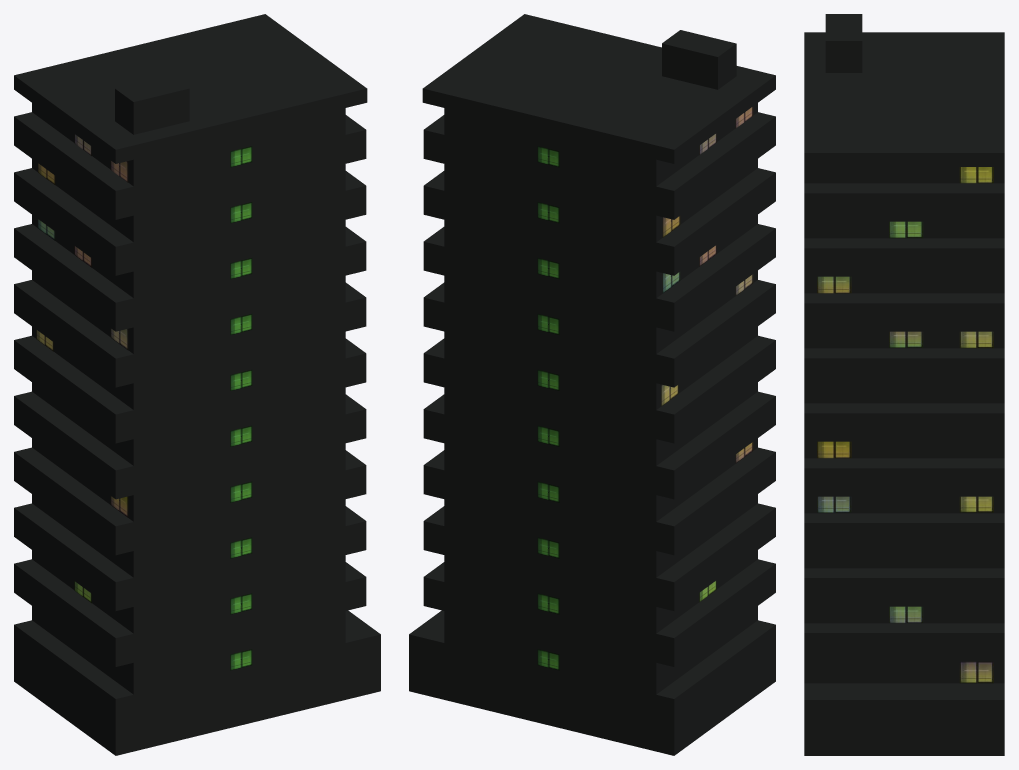
The model's file is AMB_MANSYON_M2.glb.
3 views of the same model, side by side, from view 1: azimuth 30°, elevation 25°; view 2: azimuth 150°, elevation 25°; view 3: azimuth 270°, elevation 25° (orthographic).
Parts seen in each view (by area): view 1: BASE; view 2: BASE; view 3: BASE.
Part boxes in pixels (bbox=[...]): BASE: bbox=[14, 14, 380, 755]; BASE: bbox=[409, 14, 775, 755]; BASE: bbox=[804, 14, 1004, 755].
Bounding box in the file's own units: 82.42 × 190 × 54.87.
Materials: 2 (2 with a texture image).
